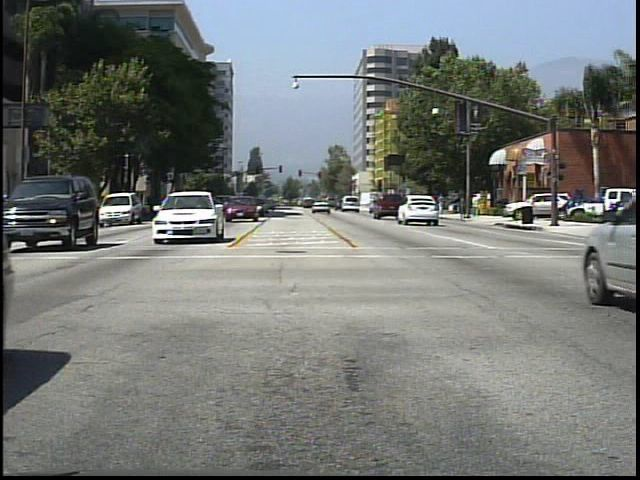person: (472, 192, 484, 218), (437, 192, 448, 218)
